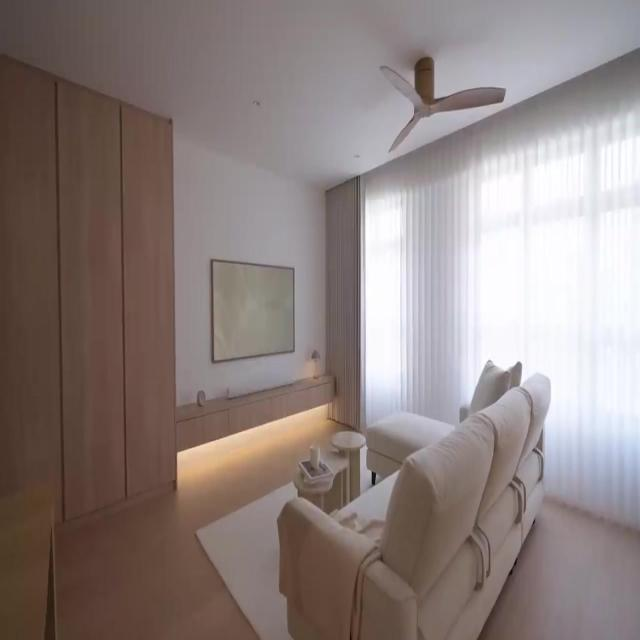obstacle: (277, 370, 551, 638)
